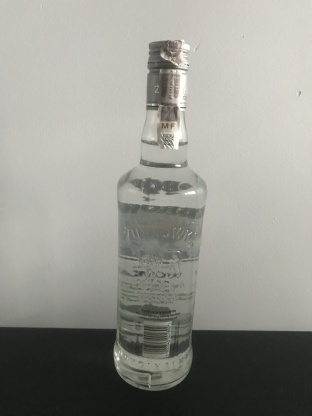nakretka: (144, 38, 191, 110)
